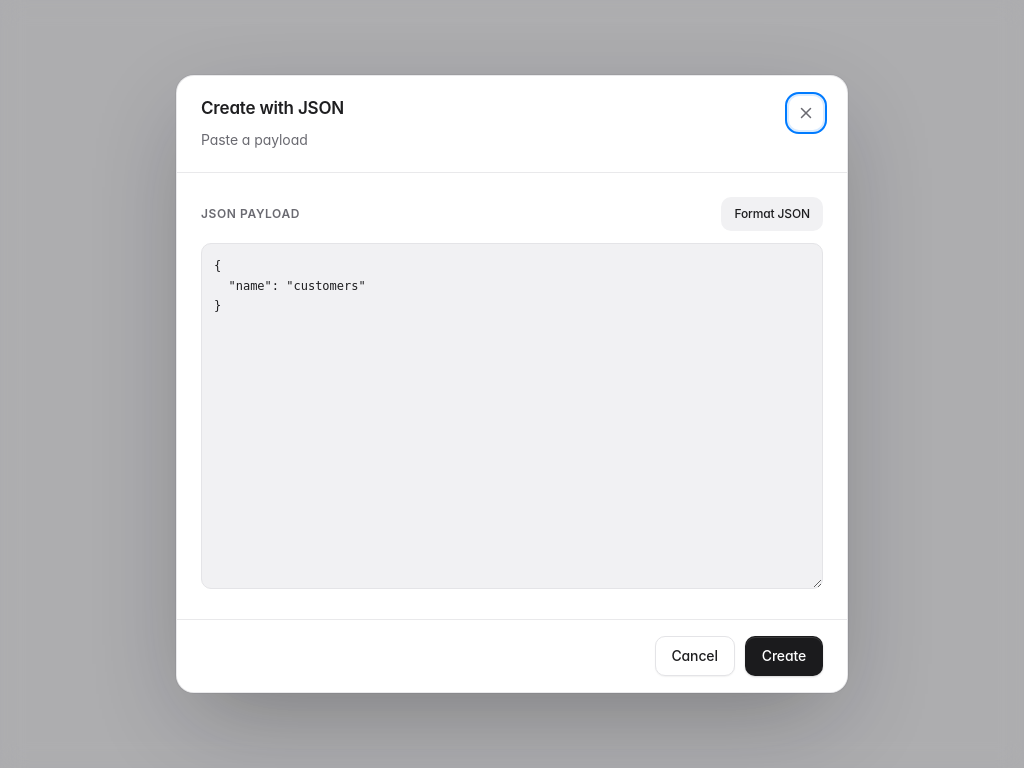
Test: creation dialog request feedback › waits for JSON persistence, prevents cancellation while pending, and retains a rejected payload
Click the button "Create" at (784,656), box [745,636,823,676]
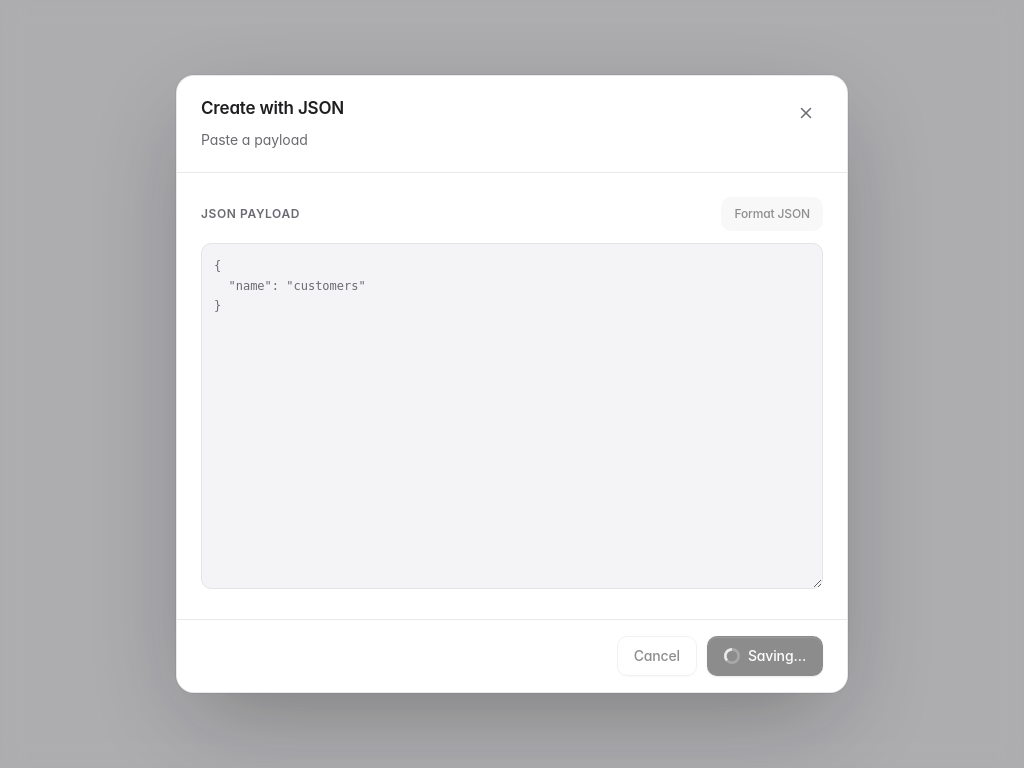
Now the button "Cancel" is disabled, box [617,636,697,676]
Press Escape
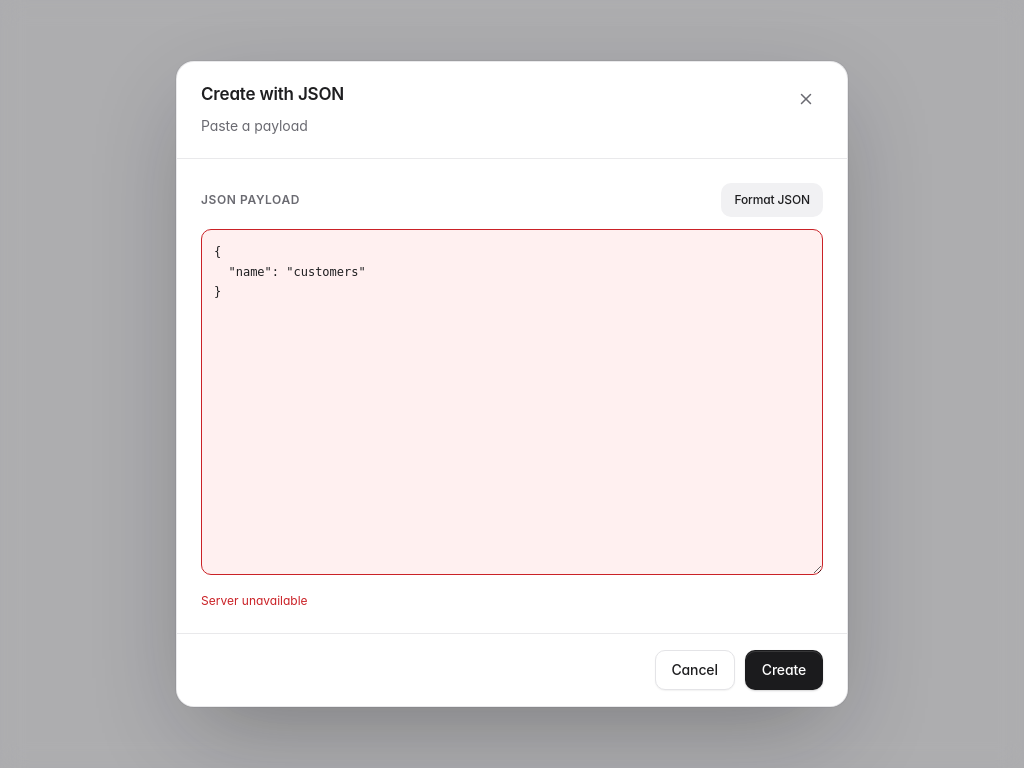
Now the message reads "Server unavailable", box [201,592,308,608]
